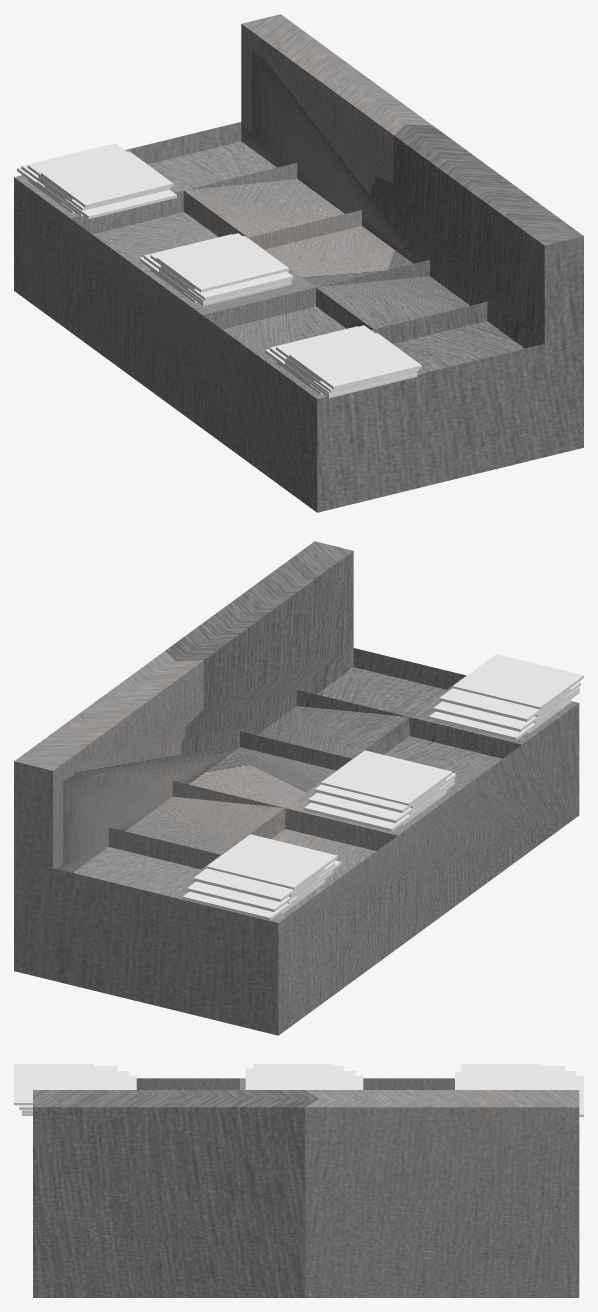
File: bancone mensa colorato obj.fbx
3 views of the same model, one above another, from view 1: azimuth 30°, elevation 25°; view 2: azimuth 150°, elevation 25°; view 3: azimuth 270°, elevation 25° (orthographic). The views are drawn at different scales.
Visible parts, largest first — view 1: Cube, Cube_9, Cube_17, Cube_8, Generic, Cube_18, Cube_10, Cube_22, Cube_6; view 2: Cube, Cube_8, Cube_9, Cube_17, Generic, Cube_18, Cube_10, Cube_11, Cube_19, Cube_5, Cube_12, Cube_2 (+2 smaller); view 3: Cube, Cube_9, Cube_8, Cube_17, Cube_10, Cube_18.
Boxes of the visible parts, x1,y1,x2,y2 form: Cube: [14, 14, 583, 512]; Cube_9: [289, 333, 421, 389]; Cube_17: [41, 151, 173, 207]; Cube_8: [156, 236, 288, 292]; Generic: [92, 212, 218, 265]; Cube_18: [27, 143, 126, 199]; Cube_10: [276, 325, 374, 381]; Cube_22: [44, 186, 176, 218]; Cube_6: [160, 265, 292, 300]; Cube: [14, 541, 579, 1035]; Cube_8: [321, 750, 452, 805]; Cube_9: [452, 654, 583, 709]; Cube_17: [206, 834, 337, 889]; Generic: [271, 829, 376, 882]; Cube_18: [193, 867, 324, 901]; Cube_10: [439, 687, 570, 721]; Cube_11: [433, 697, 564, 731]; Cube_19: [187, 878, 318, 912]; Cube_5: [308, 789, 439, 823]; Cube_12: [429, 706, 560, 740]; Cube_2: [304, 799, 435, 831]; Cube: [33, 1078, 579, 1297]; Cube_9: [14, 1064, 93, 1105]; Cube_8: [253, 1064, 332, 1089]; Cube_17: [461, 1064, 540, 1089]; Cube_10: [93, 1066, 117, 1089]; Cube_18: [540, 1066, 564, 1089].
Bounding box in the file's own units: 2.46 × 1.86 × 5.05.
Materials: 2 (1 with a texture image).
